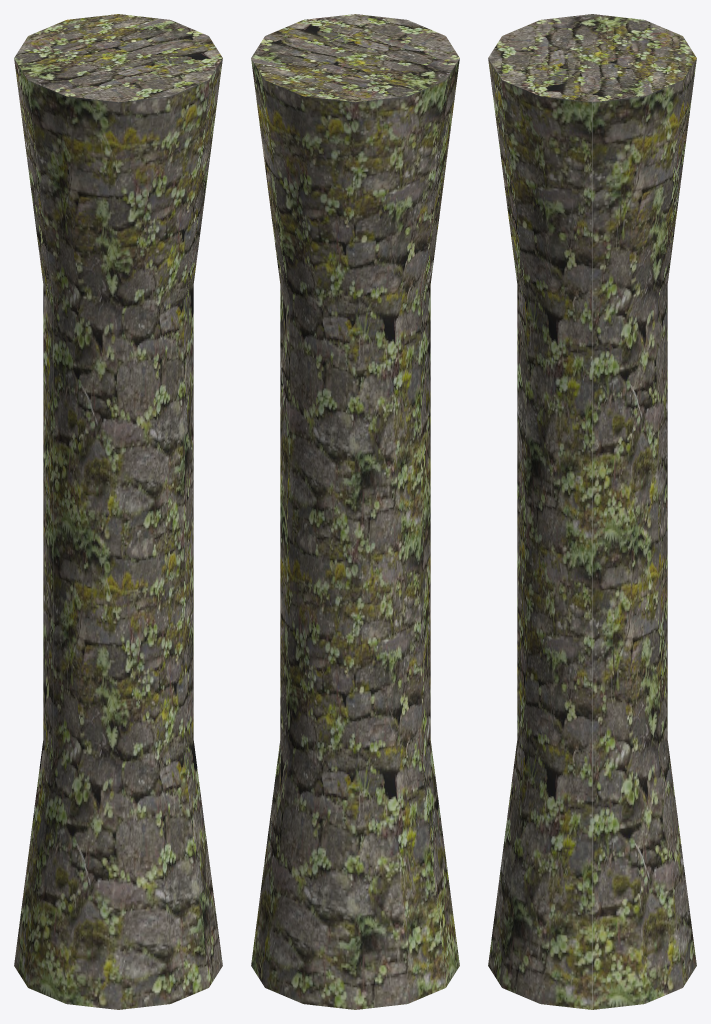
Rendered from Deco.Column.fbx.
3 renders of one model, left to right at view 1: azimuth 30°, elevation 25°; view 2: azimuth 150°, elevation 25°; view 3: azimuth 270°, elevation 25°, orthographic.
Parts seen in each view (by area): view 1: Column.2; view 2: Column.2; view 3: Column.2.
Part boxes in pixels (<box>): Column.2: <box>14,14,222,1009</box>; Column.2: <box>251,14,459,1009</box>; Column.2: <box>488,14,696,1009</box>.
Size of the model in its own units: 41.7 by 200 by 41.7.
